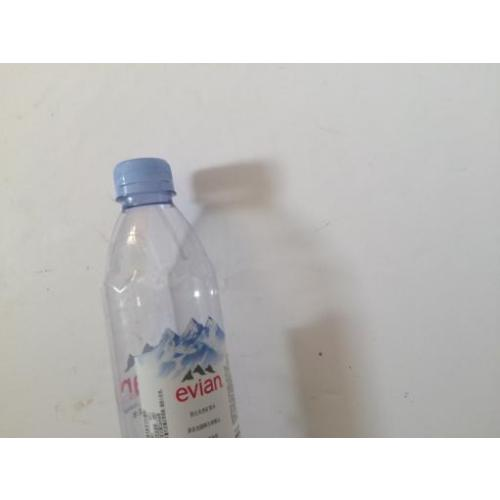plastic: (101, 158, 241, 439)
